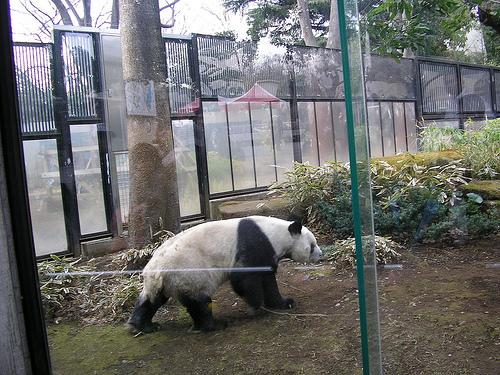panda: (128, 215, 321, 332)
